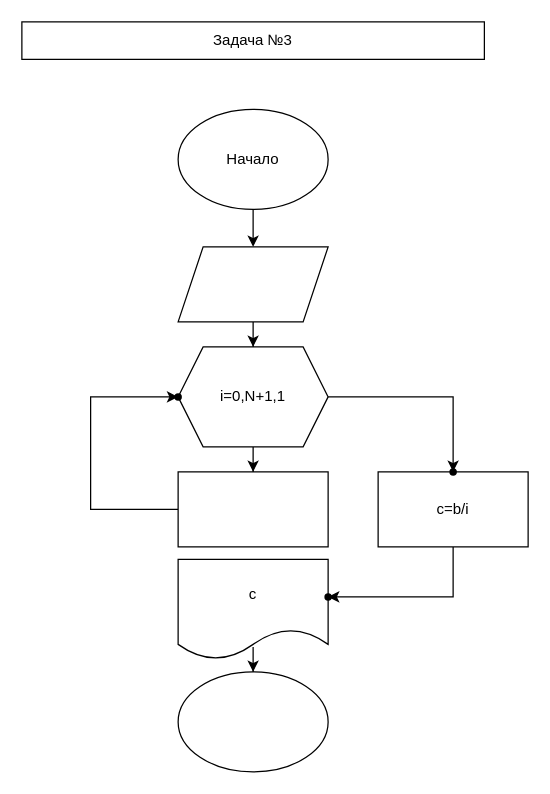
This 550x794 diagram has some shape labels left out. The centre of each missing label's shape, as x and y in pixels:
"d=d+a[i] i=i+1" goes at [252,509].
"N a d=0 c=0" goes at [252,284].
"Конец" goes at [252,721].
